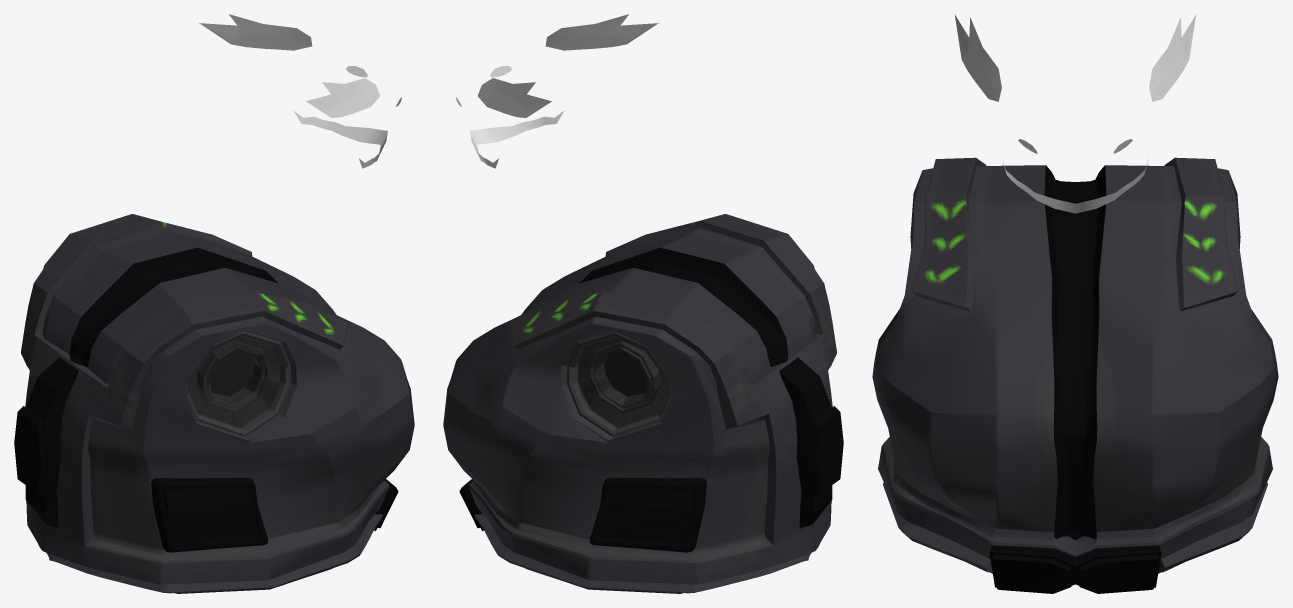
Rendered from AS_DiagF_MOuthFF.fbx.
3 renders of one model, left to right at view 1: azimuth 30°, elevation 25°; view 2: azimuth 150°, elevation 25°; view 3: azimuth 270°, elevation 25°, orthographic. The views are drawn at different scales.
Parts seen in each view (by area): view 1: Chest_armor, Face; view 2: Chest_armor, Face; view 3: Chest_armor, Face.
Part boxes in pixels (x1,y1,x2,y2): Chest_armor: [14, 214, 414, 593]; Face: [199, 14, 401, 168]; Chest_armor: [443, 214, 843, 593]; Face: [456, 14, 658, 168]; Chest_armor: [872, 157, 1278, 593]; Face: [955, 15, 1195, 213].
Bounding box in the file's own units: 30.99 × 26.77 × 38.9.
